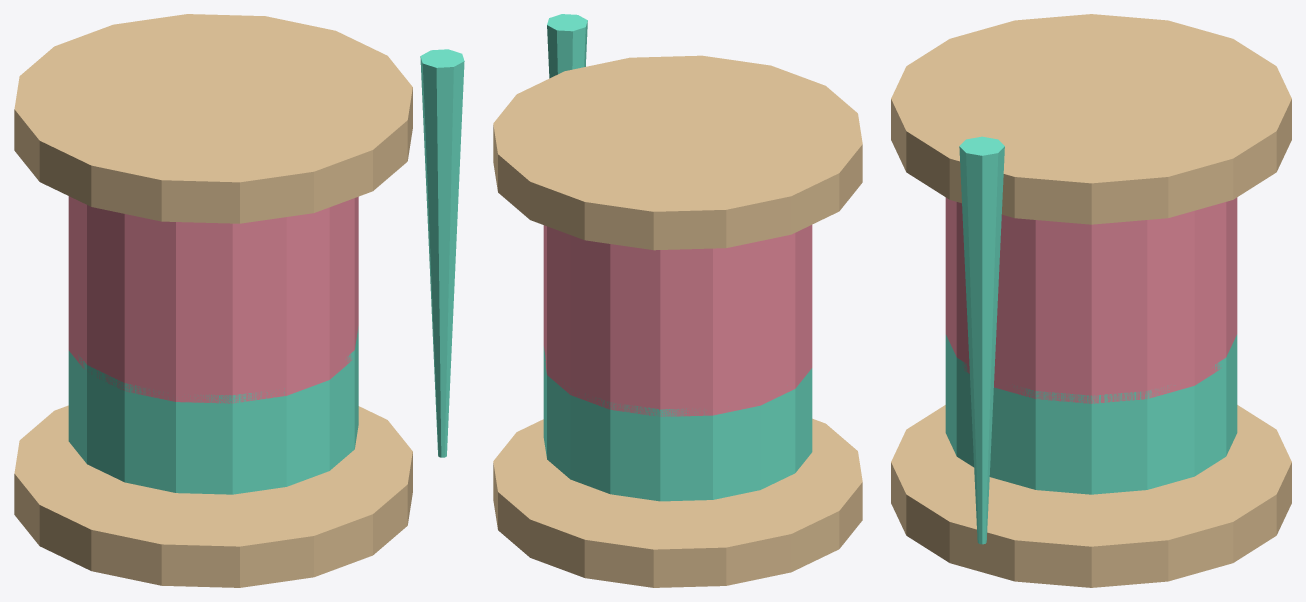
The model's file is station6_fiber_arts.glb.
The picture shows the model from 3 angles, left to right: view 1: azimuth 30°, elevation 25°; view 2: azimuth 150°, elevation 25°; view 3: azimuth 270°, elevation 25°; orthographic projection. The views are drawn at different scales.
Parts seen in each view (by area): view 1: StationArtifact; view 2: StationArtifact; view 3: StationArtifact.
Boxes of the visible parts, left/top/right/bottom form: StationArtifact: left=14, top=14, right=464, bottom=587; StationArtifact: left=493, top=14, right=862, bottom=587; StationArtifact: left=891, top=14, right=1291, bottom=587.
Bounding box in the file's own units: 0.465 × 0.535 × 0.44.
